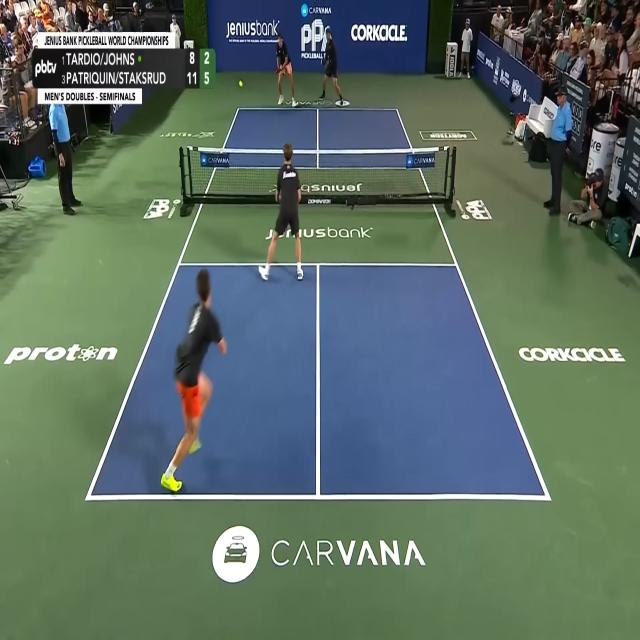ball: (239, 79, 243, 87)
